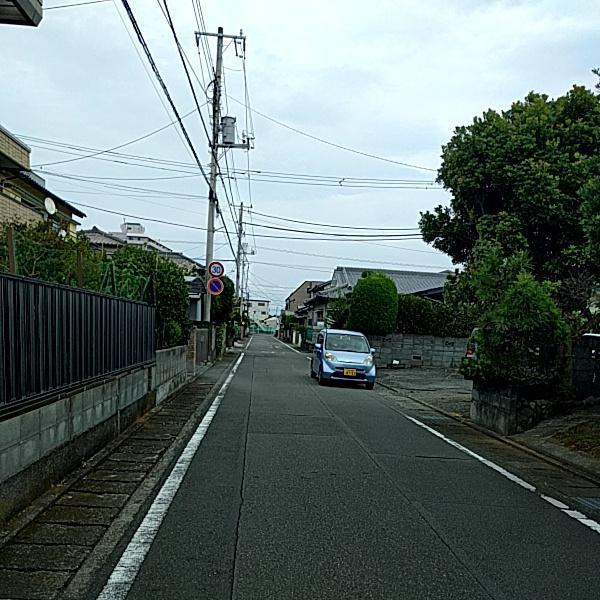D44: (106, 355, 243, 589), (413, 416, 599, 539)
